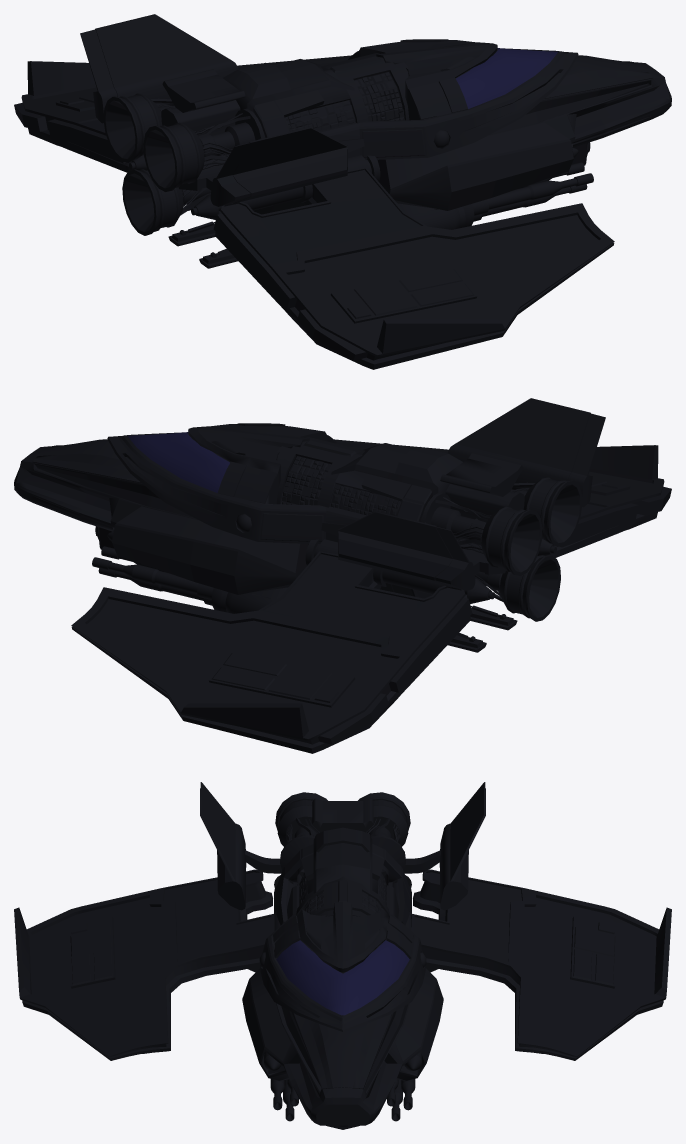
File: SK_Frigate_A.fbx
The picture shows the model from 3 angles, top to bottom: view 1: azimuth 30°, elevation 25°; view 2: azimuth 150°, elevation 25°; view 3: azimuth 270°, elevation 25°; orthographic projection. The views are drawn at different scales.
Parts seen in each view (by area): view 1: SK_Frigate_A_Body, SK_Frigate_A_RW, SK_Frigate_A_LW; view 2: SK_Frigate_A_Body, SK_Frigate_A_LW, SK_Frigate_A_RW; view 3: SK_Frigate_A_Body, SK_Frigate_A_RW, SK_Frigate_A_LW.
Boxes of the visible parts, bbox=[...] form: SK_Frigate_A_Body: bbox=[103, 39, 671, 268]; SK_Frigate_A_RW: bbox=[191, 127, 614, 369]; SK_Frigate_A_LW: bbox=[14, 14, 351, 172]; SK_Frigate_A_Body: bbox=[14, 423, 582, 652]; SK_Frigate_A_LW: bbox=[71, 511, 494, 753]; SK_Frigate_A_RW: bbox=[334, 398, 671, 557]; SK_Frigate_A_Body: bbox=[242, 792, 443, 1129]; SK_Frigate_A_RW: bbox=[14, 782, 293, 1060]; SK_Frigate_A_LW: bbox=[392, 782, 671, 1060].
Size of the model in its own units: 1486 by 528 by 1786.
